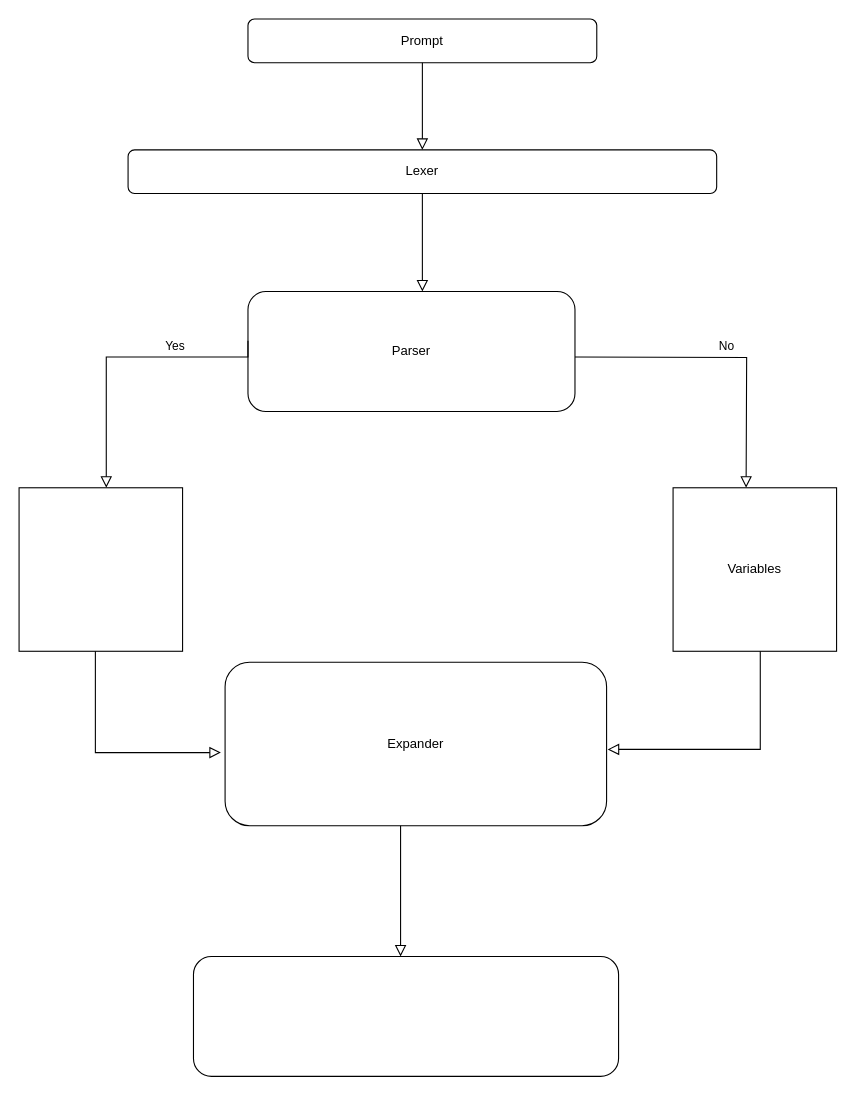
The diagram is 856 pixels wide and 1095 high, and some of its shapes have lost their labels. Here are the shapes that lost their labels. From the top down, the centre of each, then its label:
At (x=100, y=569): "Command Table".
At (x=405, y=1015): "Executor".
